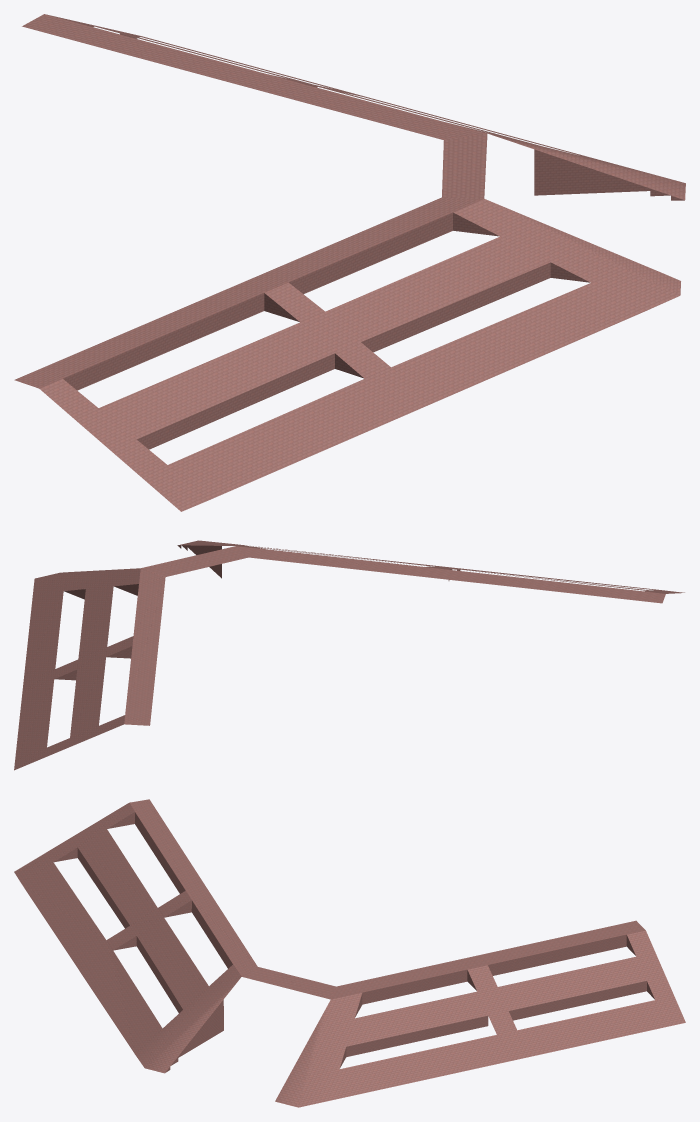
File: kd_stage_1366d7_1_5_bounded.glb
3 views of the same model, one above another, from view 1: azimuth 30°, elevation 25°; view 2: azimuth 150°, elevation 25°; view 3: azimuth 270°, elevation 25° (orthographic). The views are drawn at different scales.
Parts seen in each view (by area): view 1: kd_stage_1366d7_1_5_bounded; view 2: kd_stage_1366d7_1_5_bounded; view 3: kd_stage_1366d7_1_5_bounded.
Part boxes in pixels (x1,y1,x2,y2): kd_stage_1366d7_1_5_bounded: (14, 14, 685, 511); kd_stage_1366d7_1_5_bounded: (14, 540, 684, 770); kd_stage_1366d7_1_5_bounded: (14, 799, 685, 1107).
Size of the model in its own units: 44.5 by 4.07 by 49.01.
1 material, 1 textured.
